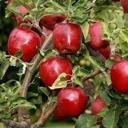apple: (57, 86, 87, 116)
